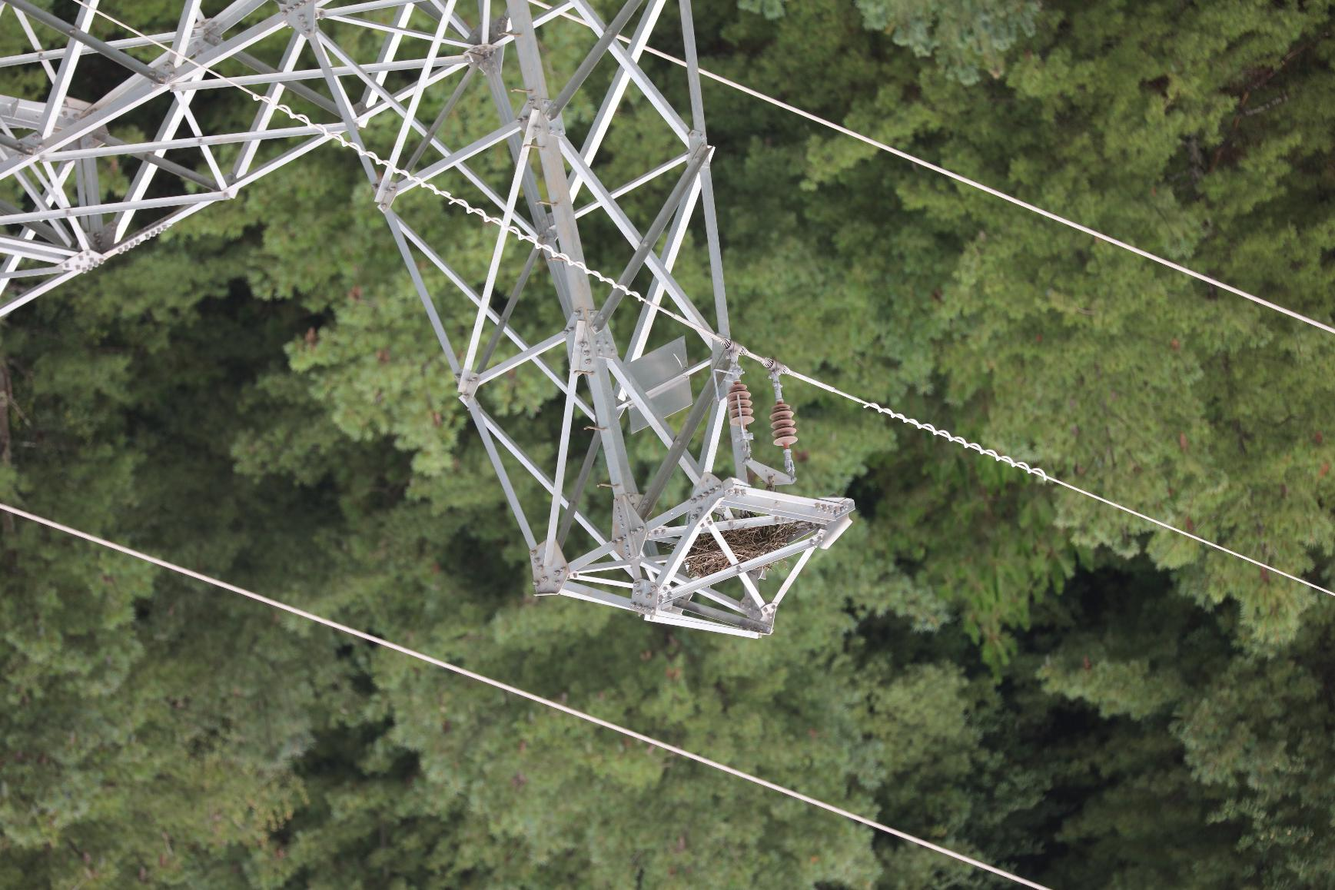nest: (682, 520, 801, 579)
